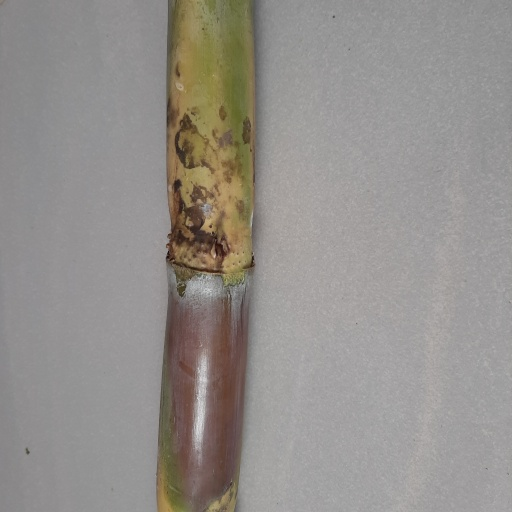Damage_Bud: (210, 242, 225, 272)
